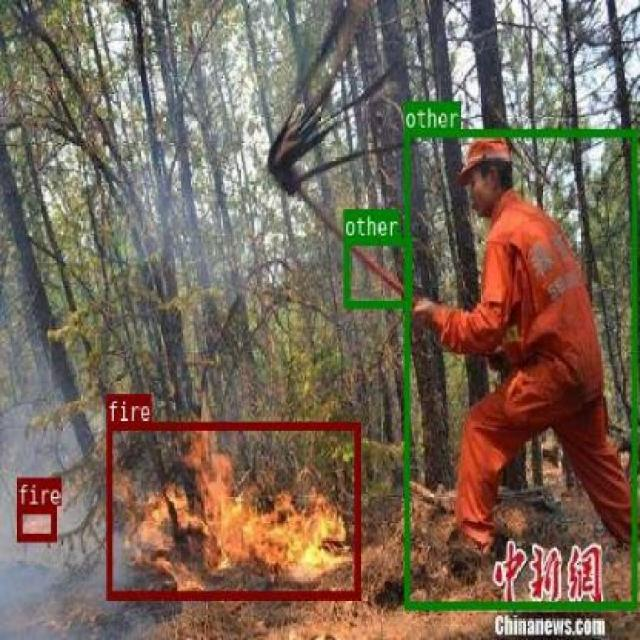Fire: (106, 422, 359, 598), (15, 505, 56, 541)
